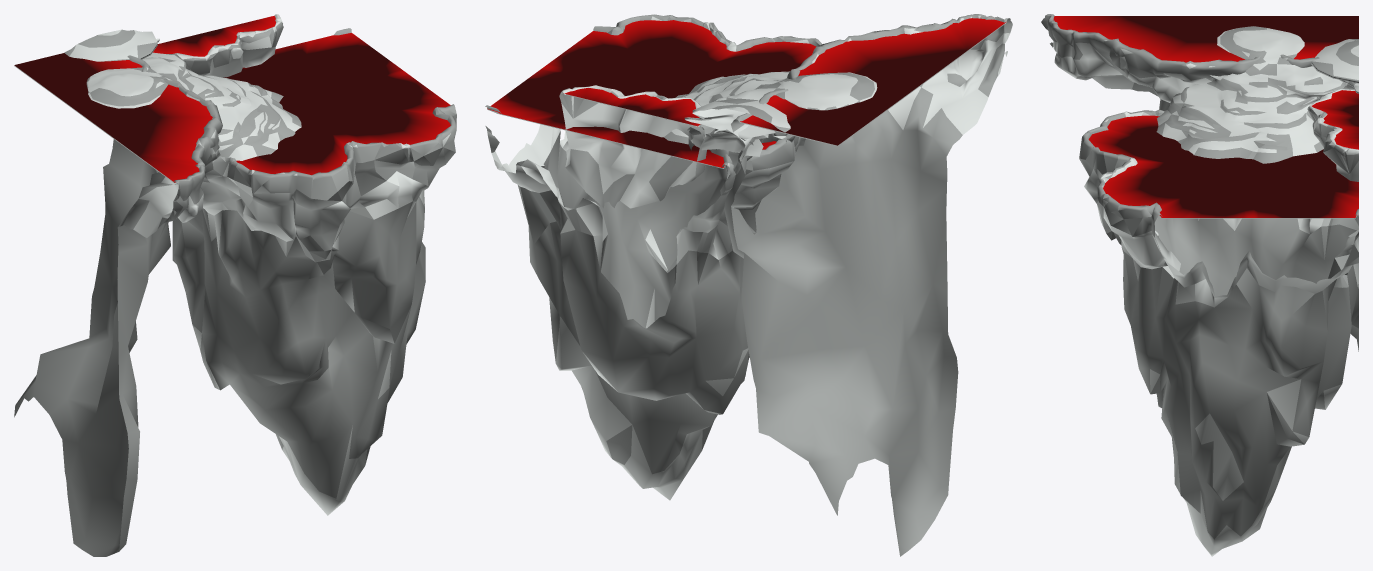
The picture shows the model from 3 angles, left to right: view 1: azimuth 30°, elevation 25°; view 2: azimuth 150°, elevation 25°; view 3: azimuth 270°, elevation 25°; orthographic projection. The views are drawn at different scales.
Visible parts, largest first — view 1: G:\FFXIV-MapTools\exports\a2f1\bg\ex1\03_abr_a2\fld\a2f1\bgp (×9); view 2: G:\FFXIV-MapTools\exports\a2f1\bg\ex1\03_abr_a2\fld\a2f1\bgp (×10); view 3: G:\FFXIV-MapTools\exports\a2f1\bg\ex1\03_abr_a2\fld\a2f1\bgp (×9).
Boxes of the visible parts, x1,y1,x2,y2 form: G:\FFXIV-MapTools\exports\a2f1\bg\ex1\03_abr_a2\fld\a2f1\bgp (×9): (14, 14, 456, 556); G:\FFXIV-MapTools\exports\a2f1\bg\ex1\03_abr_a2\fld\a2f1\bgp (×10): (485, 14, 1012, 556); G:\FFXIV-MapTools\exports\a2f1\bg\ex1\03_abr_a2\fld\a2f1\bgp (×9): (1041, 14, 1358, 556).
Size of the model in its own units: 128 by 168 by 110.
